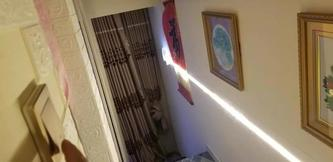switch: (31, 107, 71, 147)
